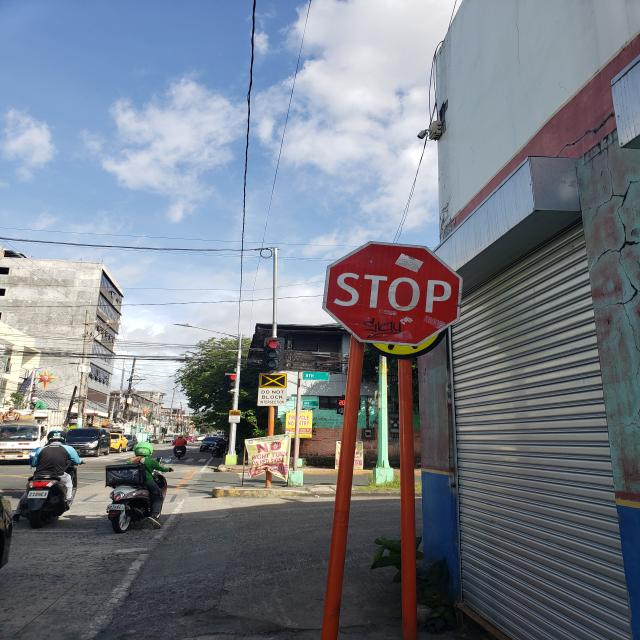stop-sign: (322, 240, 463, 347)
